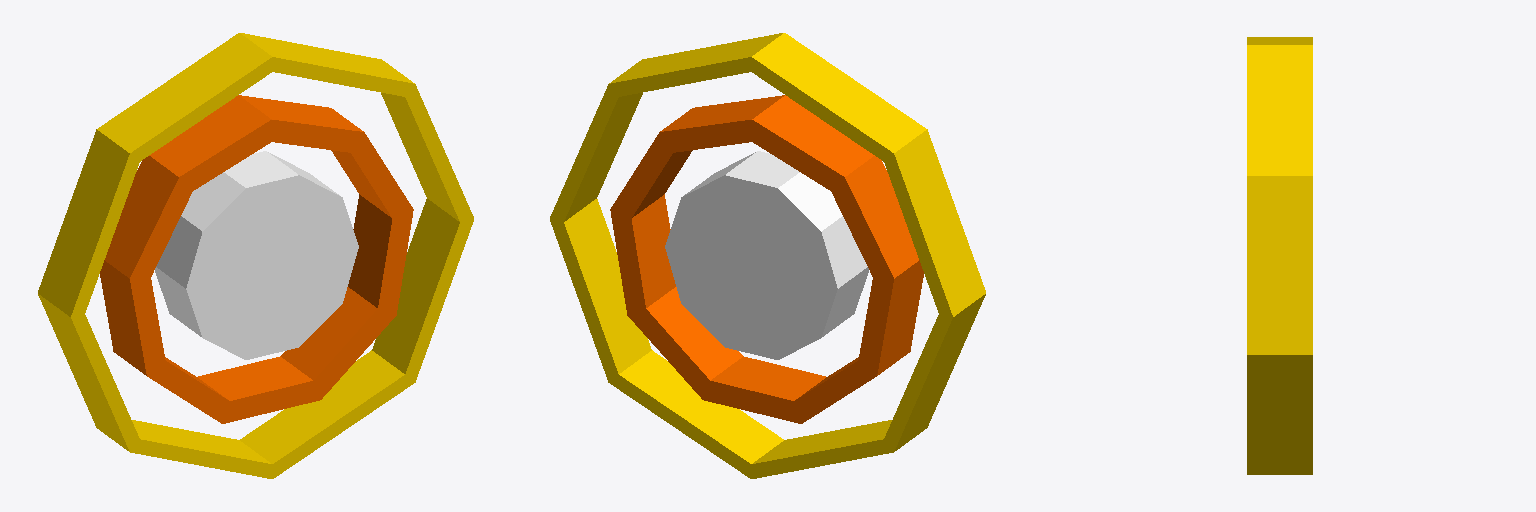
The picture shows the model from 3 angles: view 1: azimuth 30°, elevation 25°; view 2: azimuth 150°, elevation 25°; view 3: azimuth 270°, elevation 25°; orthographic projection.
Visible parts, largest first — view 1: Mesh.001_Tube001, Mesh.002_Tube002, Mesh_Cylinder001; view 2: Mesh.001_Tube001, Mesh.002_Tube002, Mesh_Cylinder001; view 3: Mesh.001_Tube001.
Part boxes in pixels (bbox=[...]): Mesh.001_Tube001: bbox=[38, 33, 473, 478]; Mesh.002_Tube002: bbox=[100, 95, 413, 423]; Mesh_Cylinder001: bbox=[155, 151, 358, 359]; Mesh.001_Tube001: bbox=[550, 33, 985, 478]; Mesh.002_Tube002: bbox=[610, 95, 923, 423]; Mesh_Cylinder001: bbox=[665, 151, 868, 359]; Mesh.001_Tube001: bbox=[1247, 37, 1312, 474].
Size of the model in its own units: 14 by 14 by 2.
Materials: 3 (2 with a texture image).